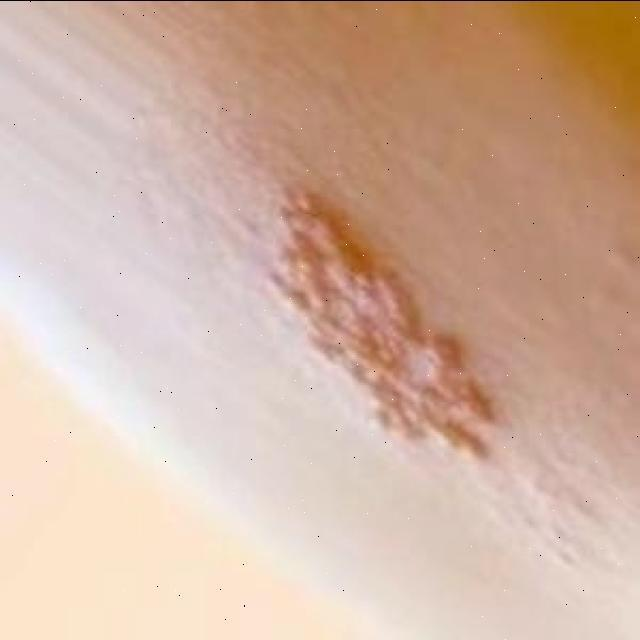Shingles: (268, 178, 504, 463)
